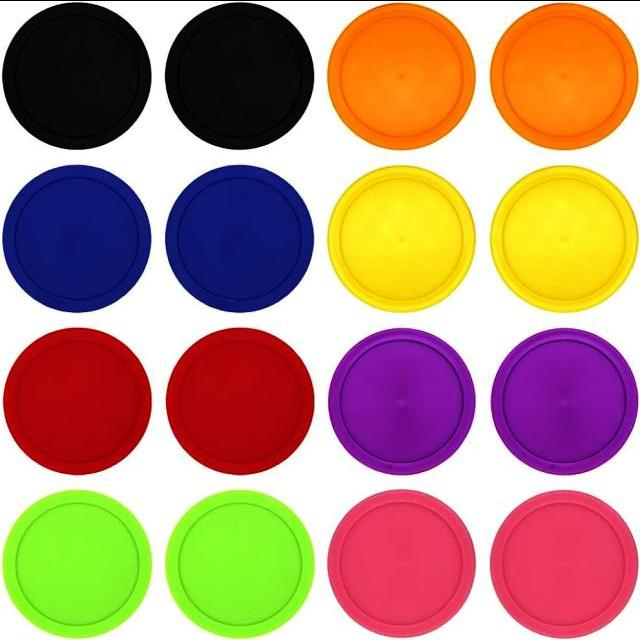chip: (2, 327, 150, 475), (2, 4, 152, 150), (165, 490, 314, 636), (167, 4, 315, 150), (491, 489, 637, 635), (492, 328, 637, 473), (328, 489, 474, 633), (329, 2, 473, 148), (492, 2, 636, 148), (168, 327, 312, 472), (167, 166, 312, 310), (330, 328, 474, 472), (5, 169, 149, 311), (5, 492, 147, 634), (494, 168, 634, 306), (332, 169, 471, 306)
